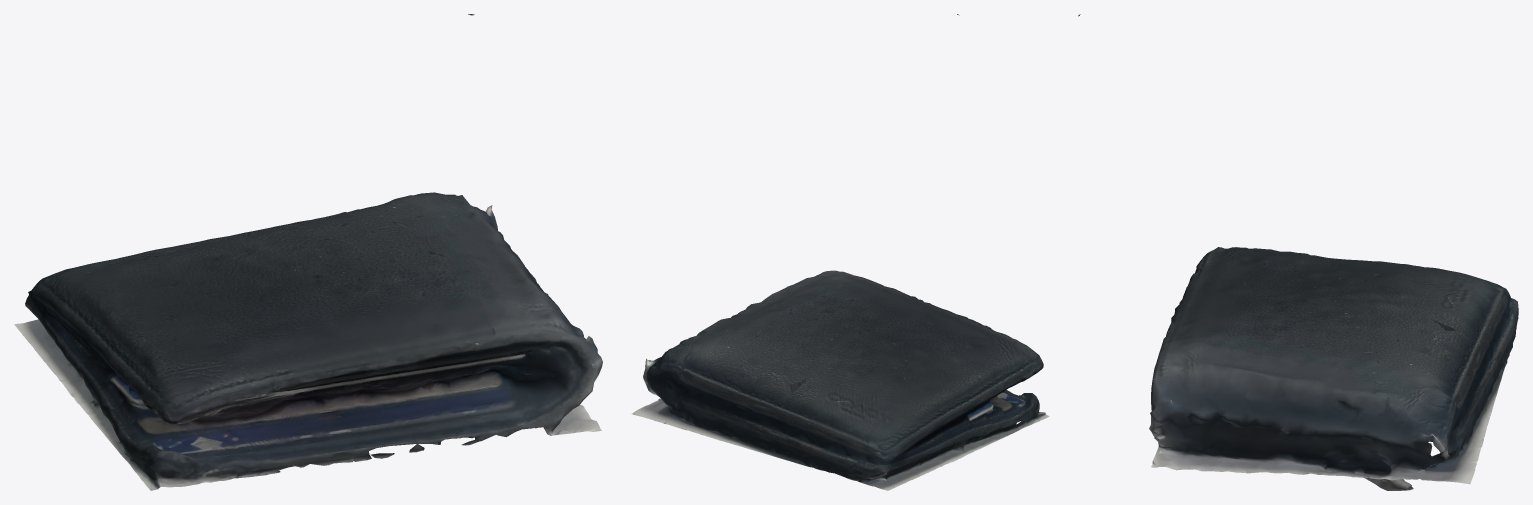
Rendered from cartera.glb.
3 renders of one model, left to right at view 1: azimuth 30°, elevation 25°; view 2: azimuth 150°, elevation 25°; view 3: azimuth 270°, elevation 25°, orthographic. The views are drawn at different scales.
Parts seen in each view (by area): view 1: 3DModel_LowPoly; view 2: 3DModel_LowPoly; view 3: 3DModel_LowPoly.
Part boxes in pixels (bbox=[...]): 3DModel_LowPoly: bbox=[14, 14, 602, 490]; 3DModel_LowPoly: bbox=[631, 14, 1049, 490]; 3DModel_LowPoly: bbox=[1078, 14, 1518, 490].
Bounding box in the file's own units: 7.54 × 7.84 × 7.73.
1 material, 1 textured.
